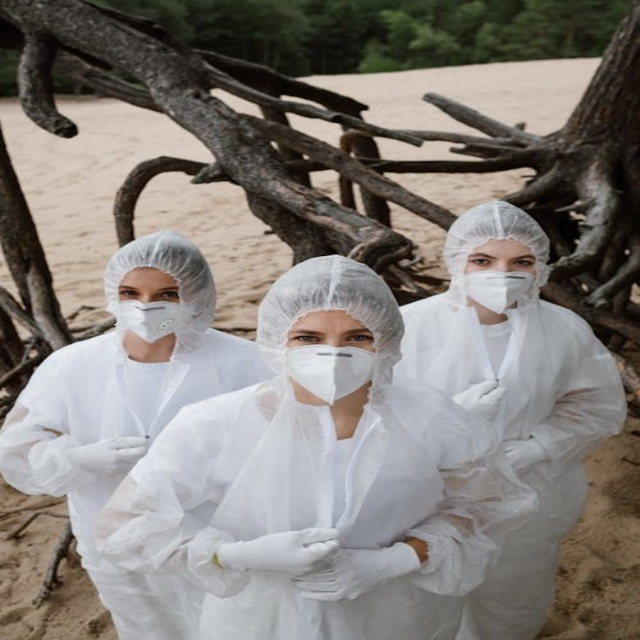Guantes: (293, 532, 434, 605), (209, 513, 343, 580), (440, 369, 511, 421), (60, 430, 148, 468), (495, 433, 556, 474)
Mascara: (284, 344, 379, 403), (111, 298, 190, 343), (463, 270, 538, 315)
Sin_gafas: (283, 324, 379, 347), (465, 247, 540, 268), (118, 280, 178, 299)
